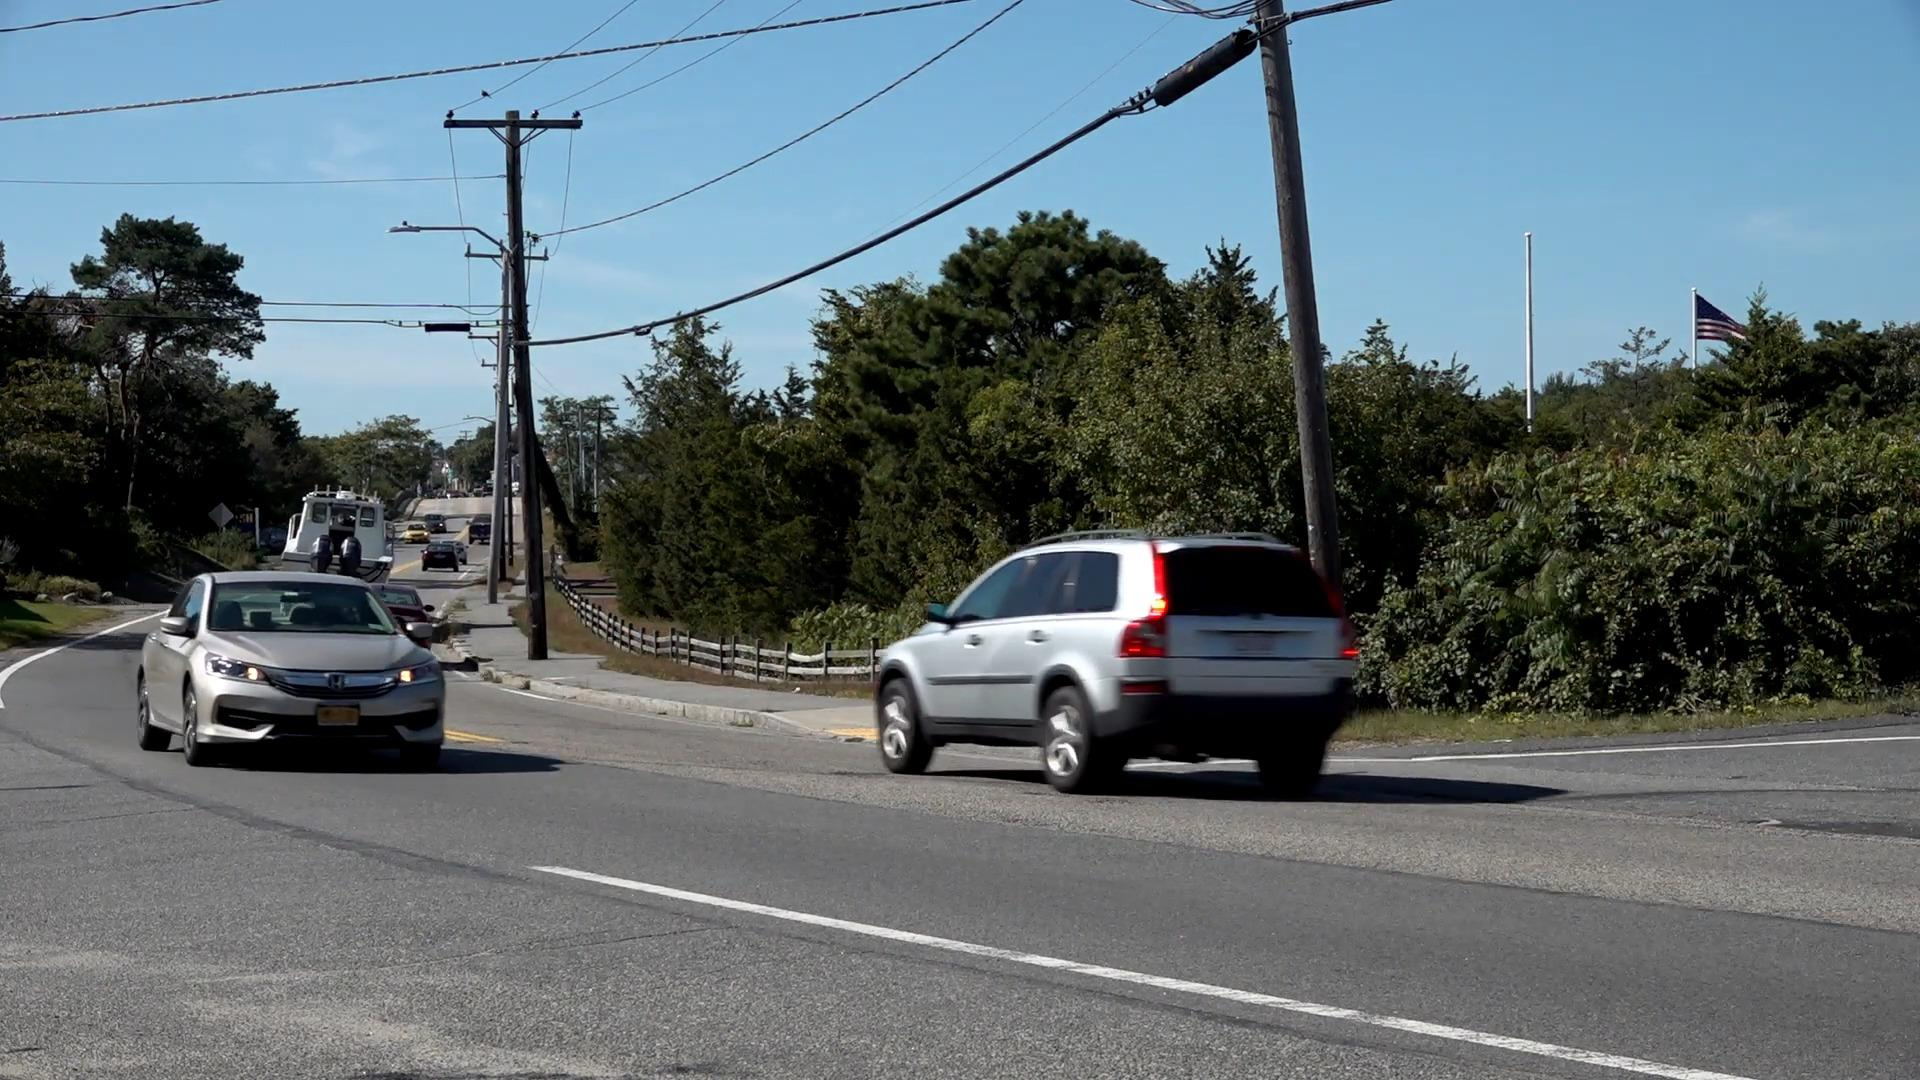sedans: (136, 576, 448, 767)
suv: (869, 527, 1360, 800)
